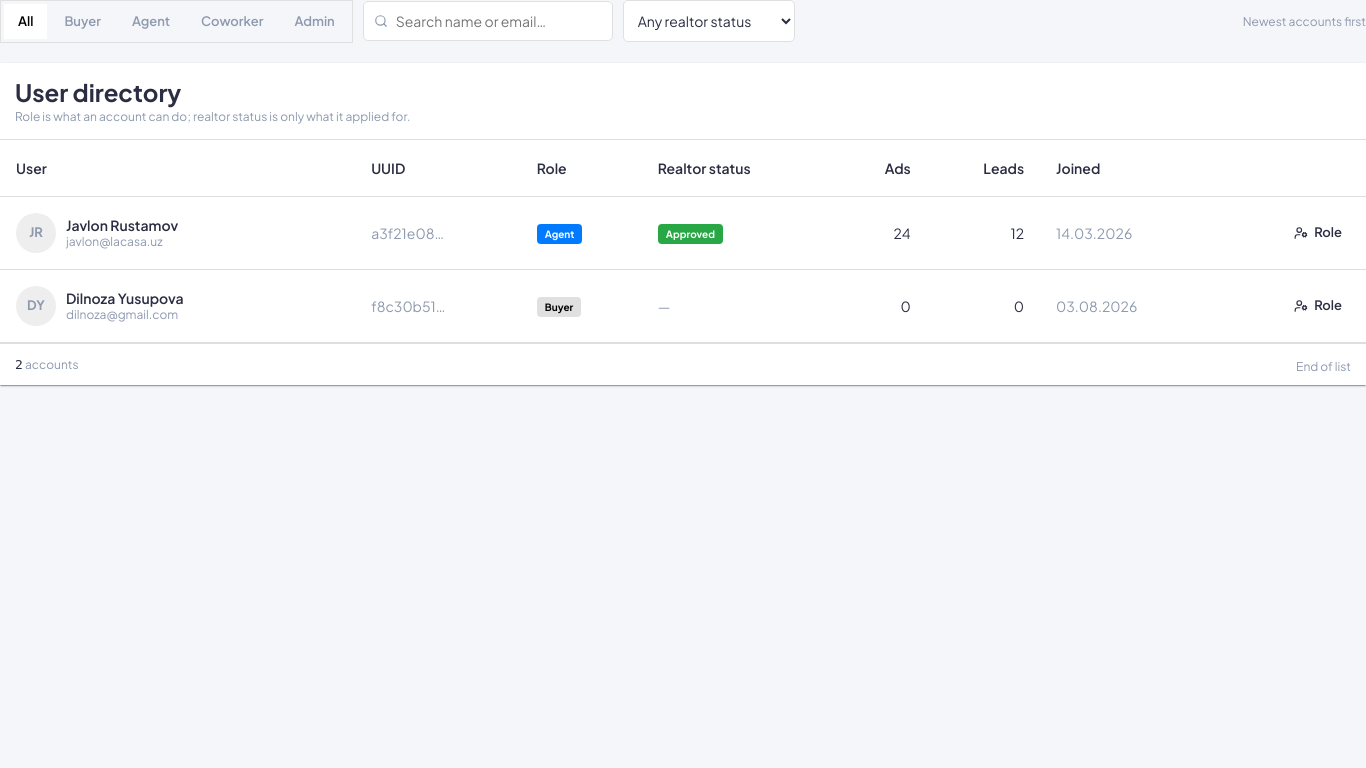
it: UsersScreen › changing a role › refuses to submit a change to the role the account already holds
Expected: the text "Javlon Rustamov" is shown, [66, 216, 178, 234]
Click the button with aria-label "Change role for Javlon Rustamov".
click(1318, 233)  # box [1286, 217, 1350, 248]
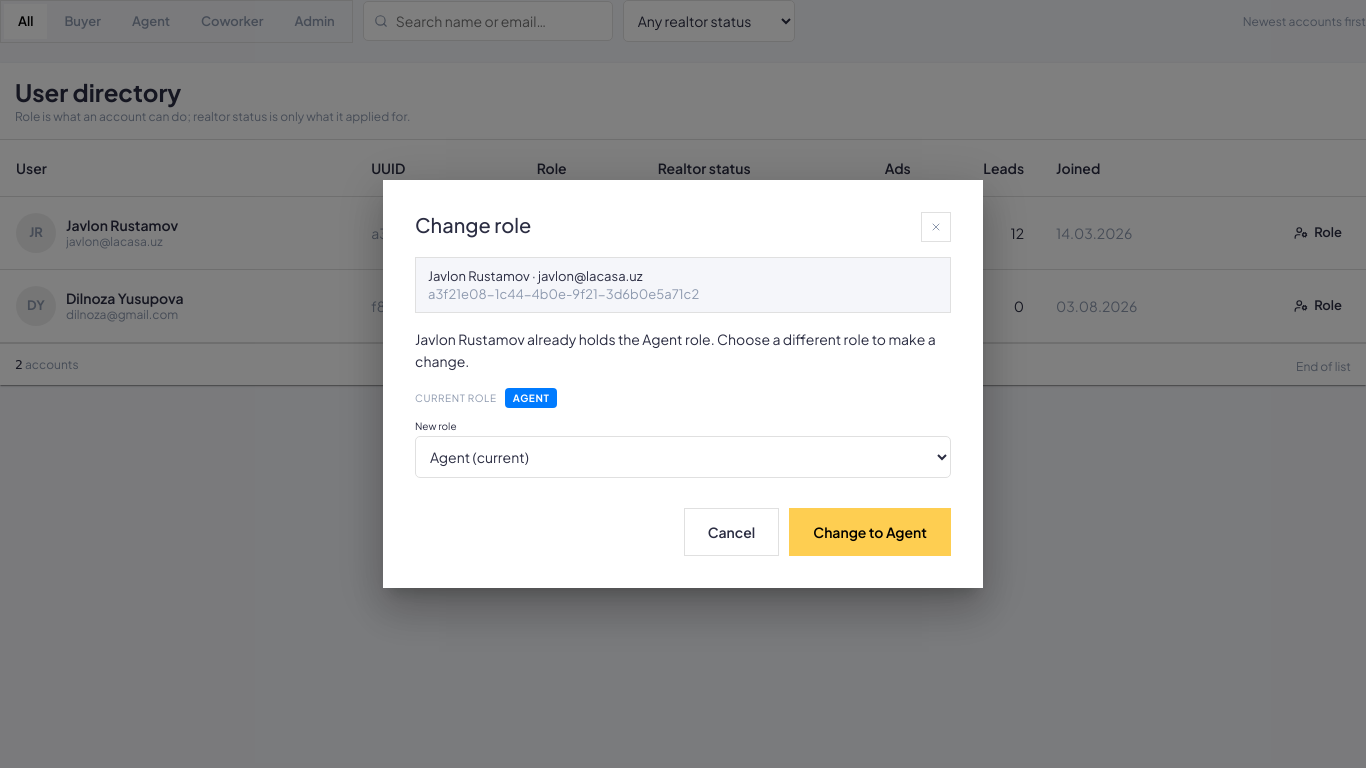
Click the button "Change to Agent".
click(870, 532)  # box [789, 508, 951, 556]
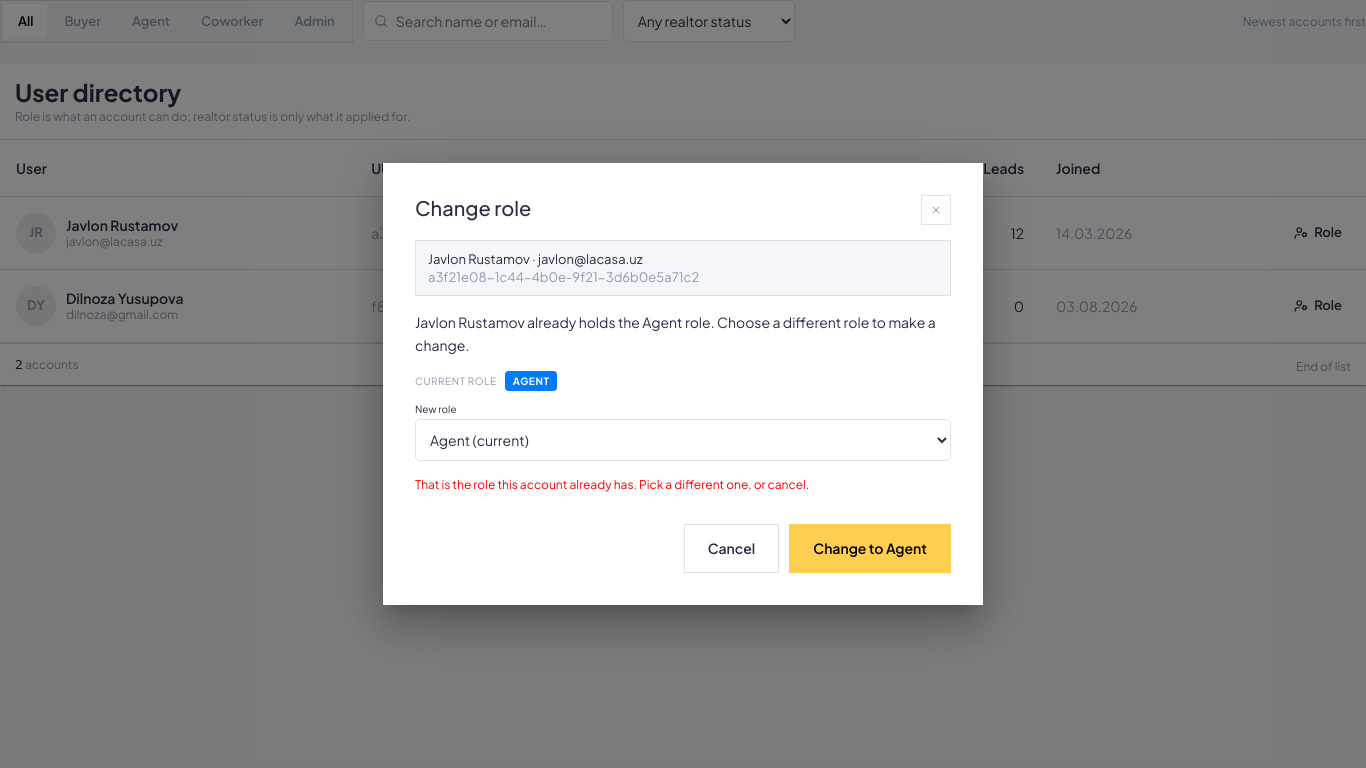
Expected: the text "That is the role this account already has. Pick a different one, or cancel." is shown, [415, 477, 809, 492]
